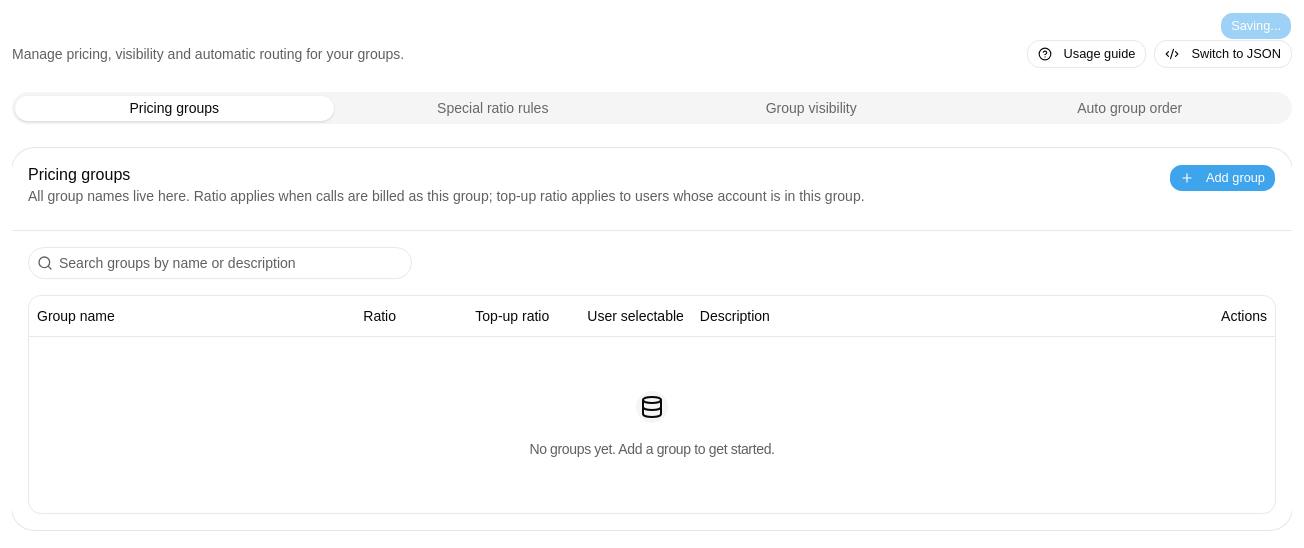
Scenario: group settings workspace › shows empty state guidance and disables save during a pending request
Expected: the text "No groups yet. Add a group to get started." is shown, [529,438,775,458]
Expected: the button "Saving..." is disabled, [1220,12,1292,40]
Click the tab "Special ratio rules". click: (493, 108)
box: [334,96,652,120]
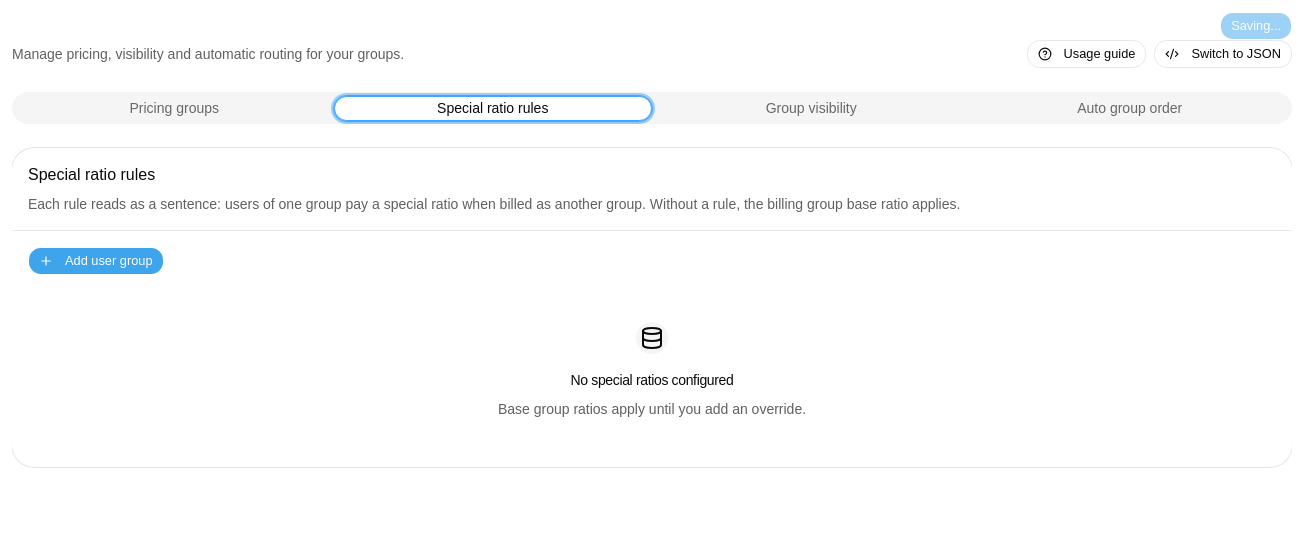
Expected: the text "Base group ratios apply until you add an override." is shown, [498,398,806,420]
Click the tab "Auto group order". click: (1130, 108)
box: [970,96,1289,120]
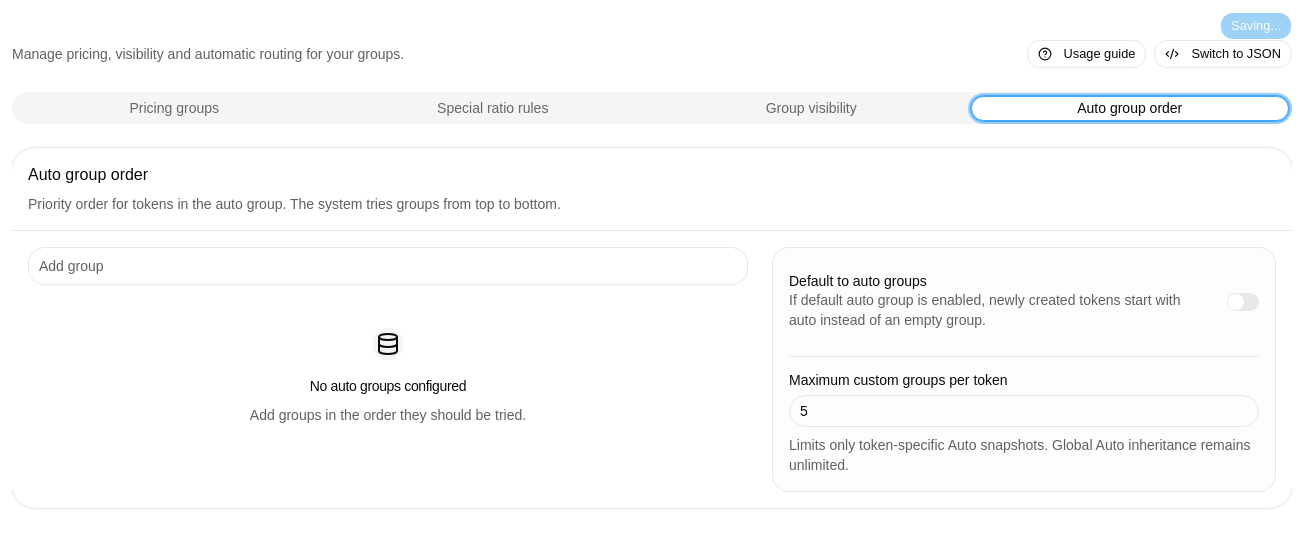
Expected: the text "No auto groups configured" is shown, [310,376,466,396]
